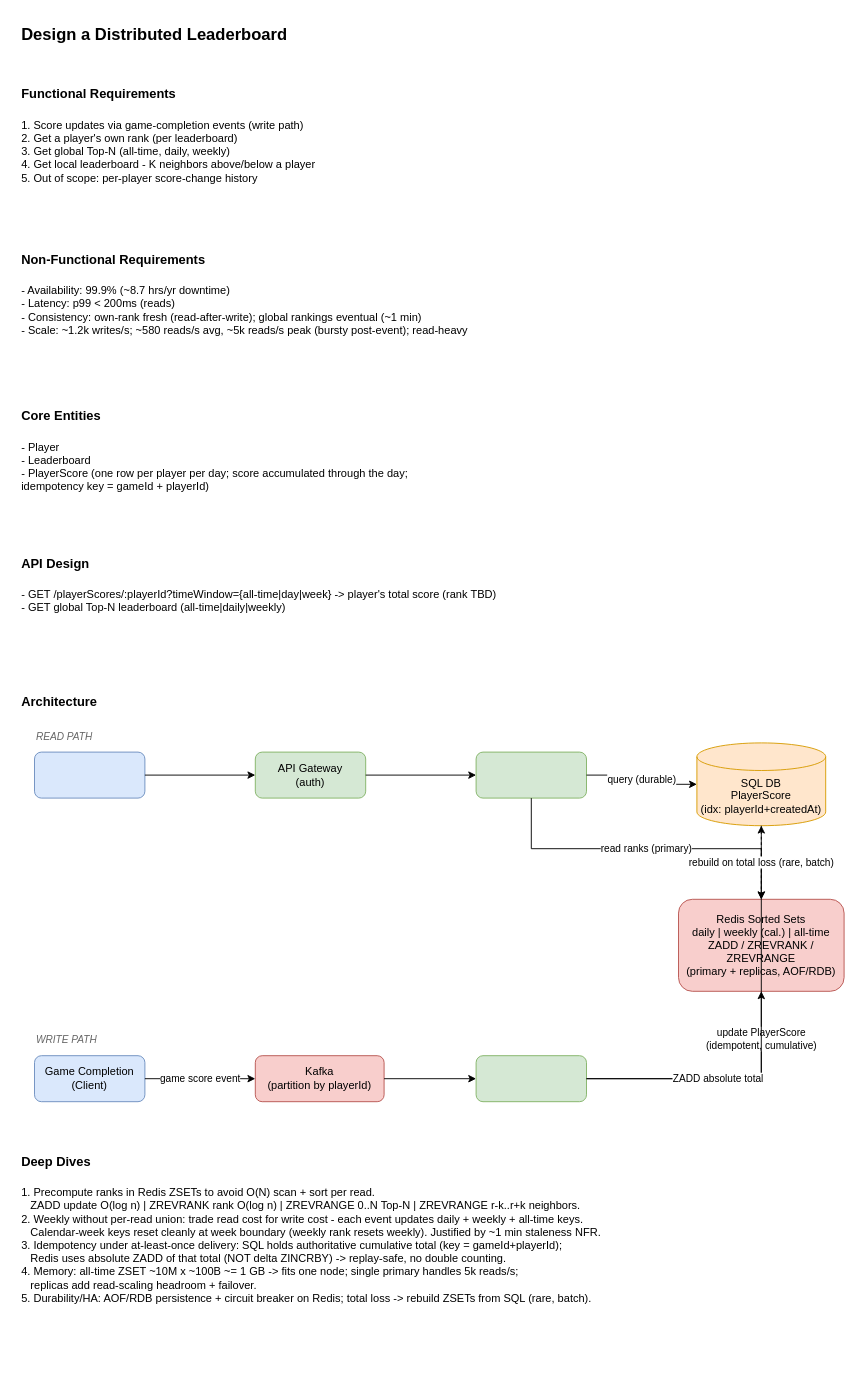
Image size: 860x1379. Some labels were removed from this diagram. Here are the shapes that lost their labels. From the top down, the box of each, then its label:
(34, 751, 145, 798): Client
(475, 751, 586, 798): Leaderboard Service
(475, 1055, 586, 1102): Consumer (idempotent update)
